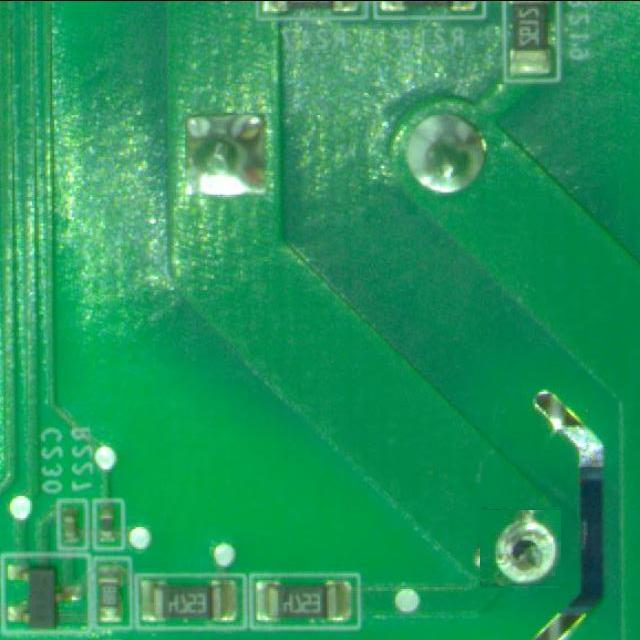lack_of_part: (481, 508, 560, 587)
